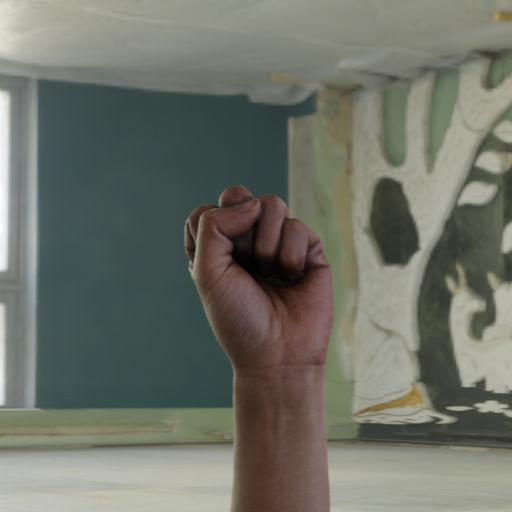V: (160, 151, 363, 396)
